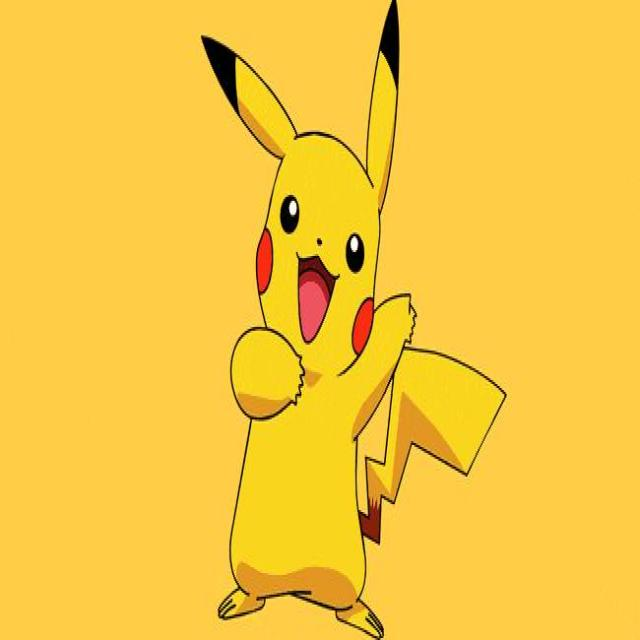pikachu: (201, 0, 509, 625)
